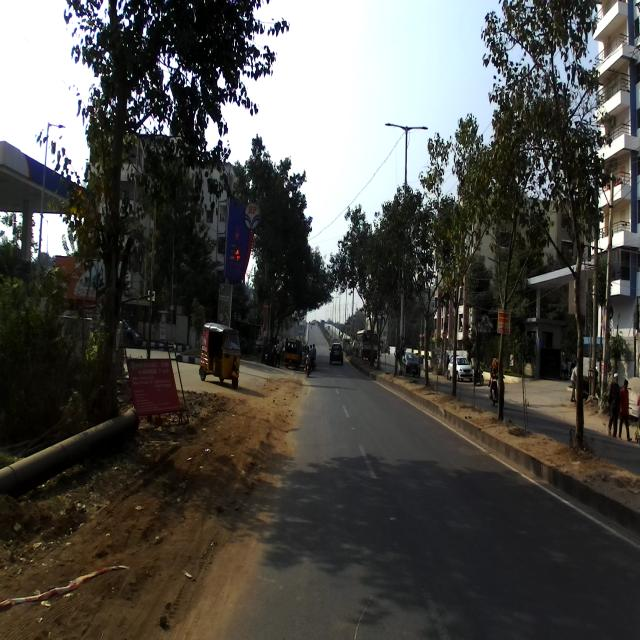auto ahead at: (198, 319, 243, 395)
tree ahead at: (94, 151, 130, 411)
